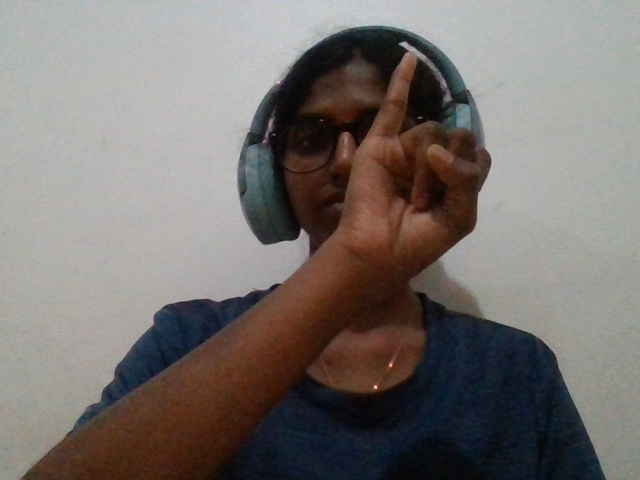I: (303, 45, 527, 332)
